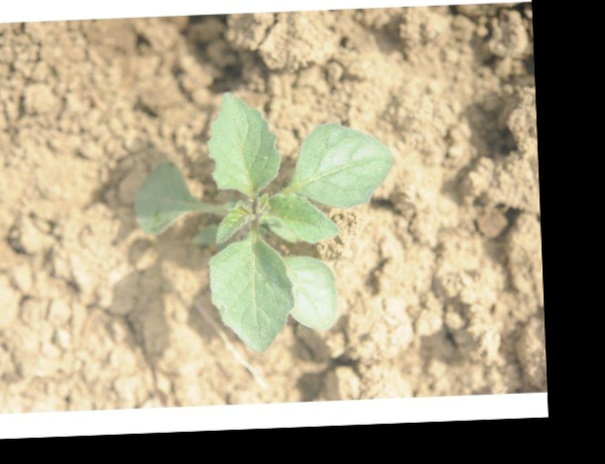nightshade: (130, 91, 396, 353)
